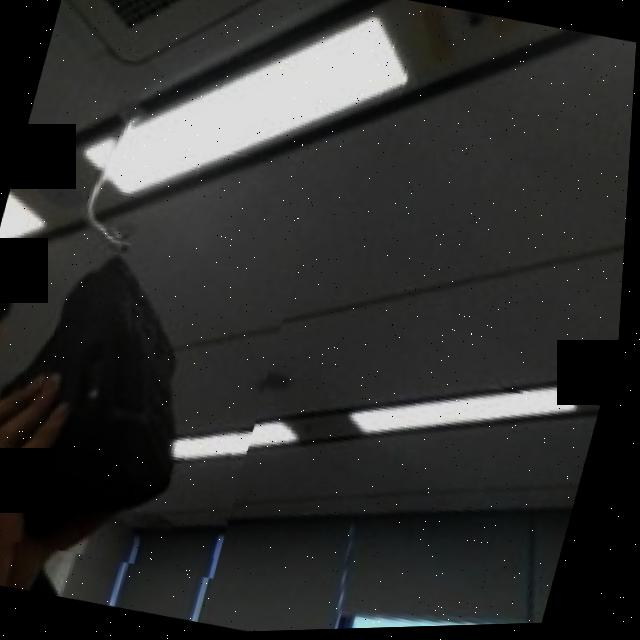shoe: (0, 200, 306, 585)
